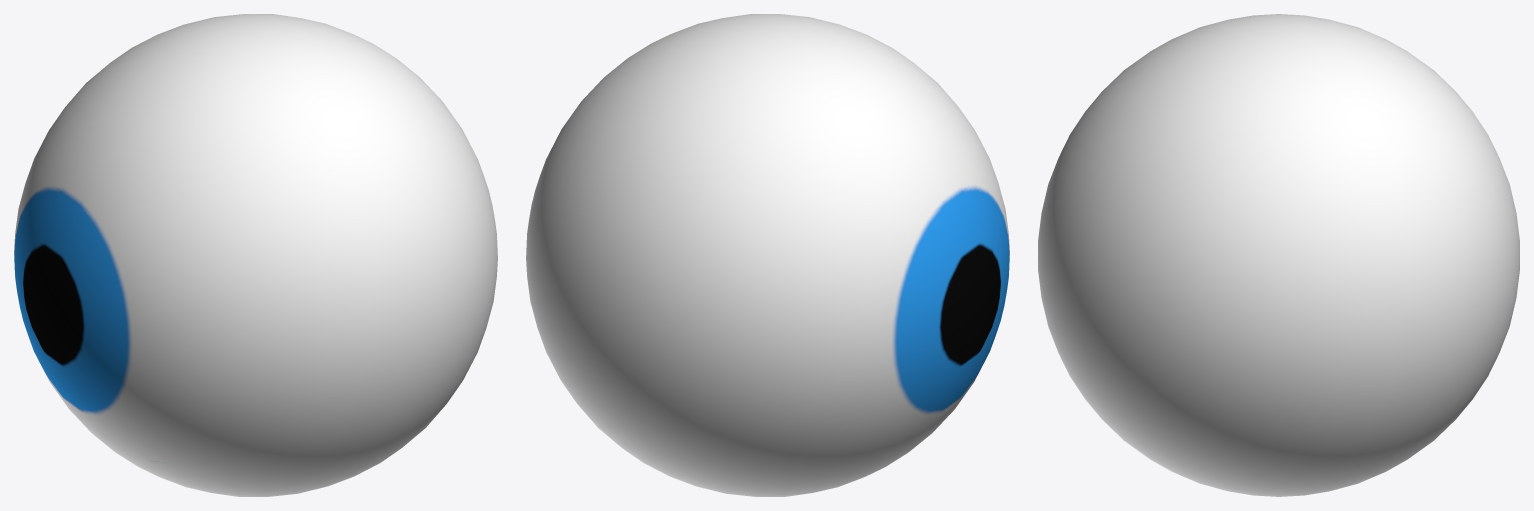
File: LooDreams_VR_Assets_RX_AllSeeingEye.fbx
3 renders of one model, left to right at view 1: azimuth 30°, elevation 25°; view 2: azimuth 150°, elevation 25°; view 3: azimuth 270°, elevation 25°, orthographic.
Visible parts, largest first — view 1: Eye_1; view 2: Eye_1; view 3: Eye_1.
Part boxes in pixels (<box>): Eye_1: <box>14,14,497,496</box>; Eye_1: <box>526,14,1009,496</box>; Eye_1: <box>1038,14,1519,496</box>.
Bounding box in the file's own units: 200 × 200 × 200.
1 material, 1 textured.
